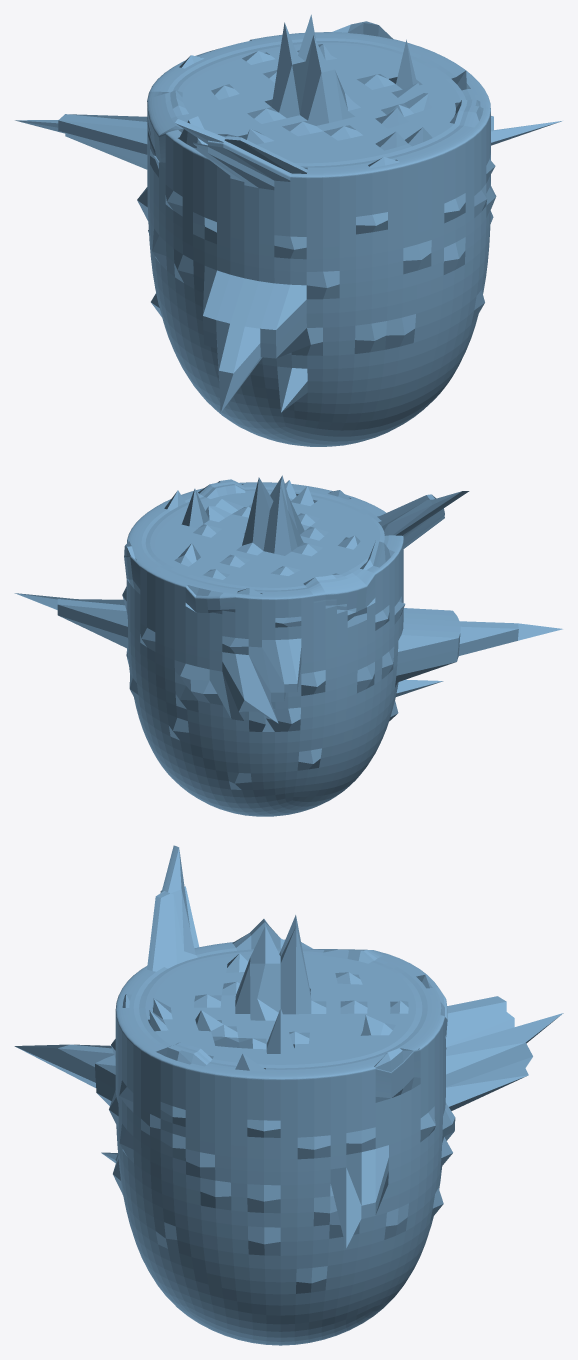
Rendered from iceIsland3.fbx.
3 renders of one model, top to bottom at view 1: azimuth 30°, elevation 25°; view 2: azimuth 150°, elevation 25°; view 3: azimuth 270°, elevation 25°, orthographic. The views are drawn at different scales.
Parts seen in each view (by area): view 1: Cube; view 2: Cube; view 3: Cube.
Boxes of the visible parts, x1,y1,x2,y2 form: Cube: (15, 14, 561, 446); Cube: (14, 475, 562, 816); Cube: (14, 845, 563, 1345).
Size of the model in its own units: 1075 by 823 by 1018.
